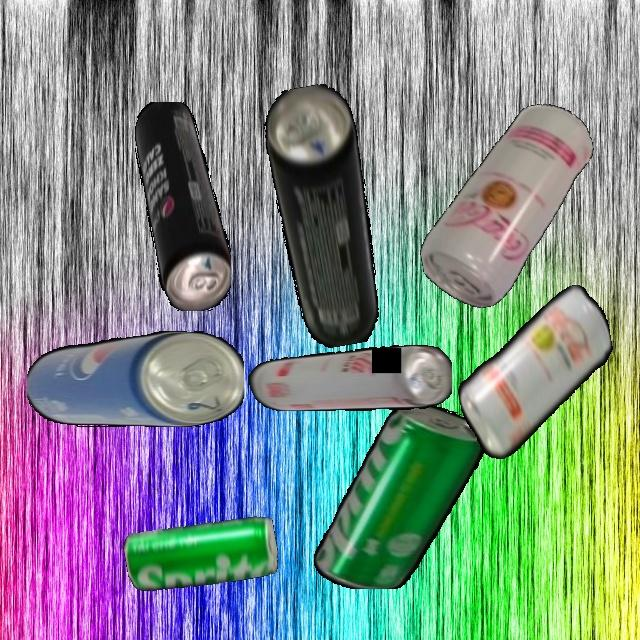debris: (399, 97, 617, 316), (258, 80, 392, 352), (444, 281, 628, 464), (314, 401, 489, 589), (26, 331, 244, 427), (134, 101, 231, 311), (122, 509, 281, 599), (245, 345, 452, 411)
